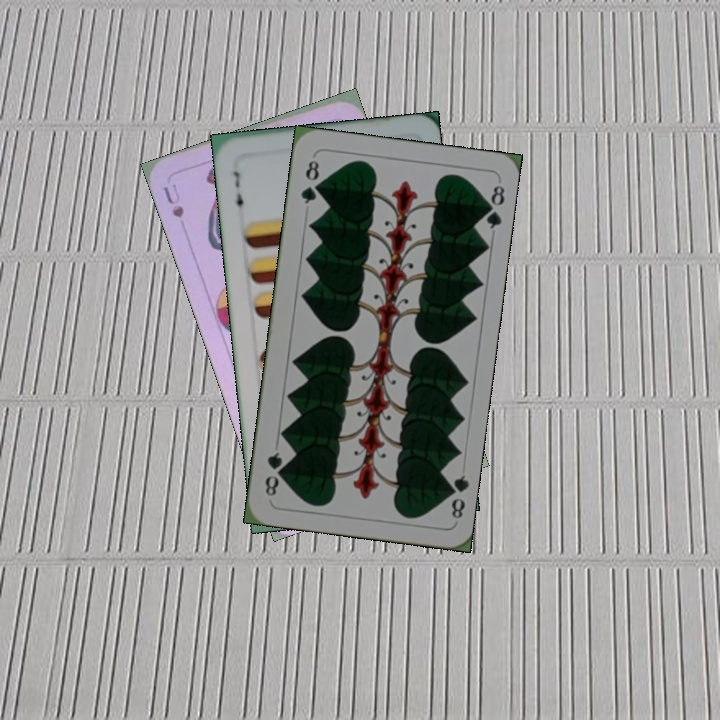E7: (229, 167, 246, 216)
G8: (441, 471, 471, 521), (296, 156, 322, 207)
SU: (159, 179, 187, 220)
